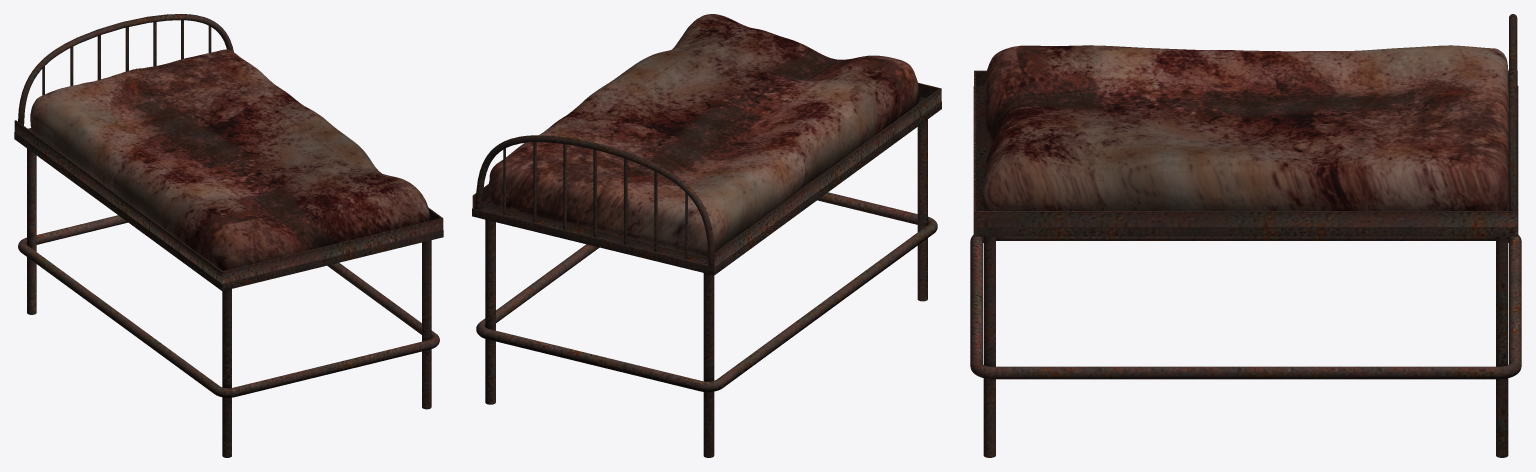
File: Cama.dae
The picture shows the model from 3 angles, left to right: view 1: azimuth 30°, elevation 25°; view 2: azimuth 150°, elevation 25°; view 3: azimuth 270°, elevation 25°; orthographic projection. The views are drawn at different scales.
Visible parts, largest first — view 1: Colch, Estructura; view 2: Colch, Estructura; view 3: Colch, Estructura.
Part boxes in pixels (bbox=[...]): Colch: bbox=[30, 49, 429, 271]; Estructura: bbox=[14, 14, 443, 457]; Colch: bbox=[488, 14, 919, 257]; Estructura: bbox=[472, 82, 941, 457]; Colch: bbox=[981, 45, 1508, 210]; Estructura: bbox=[970, 14, 1521, 457].
Size of the model in its own units: 162 by 182 by 263.
Materials: 2 (2 with a texture image).
